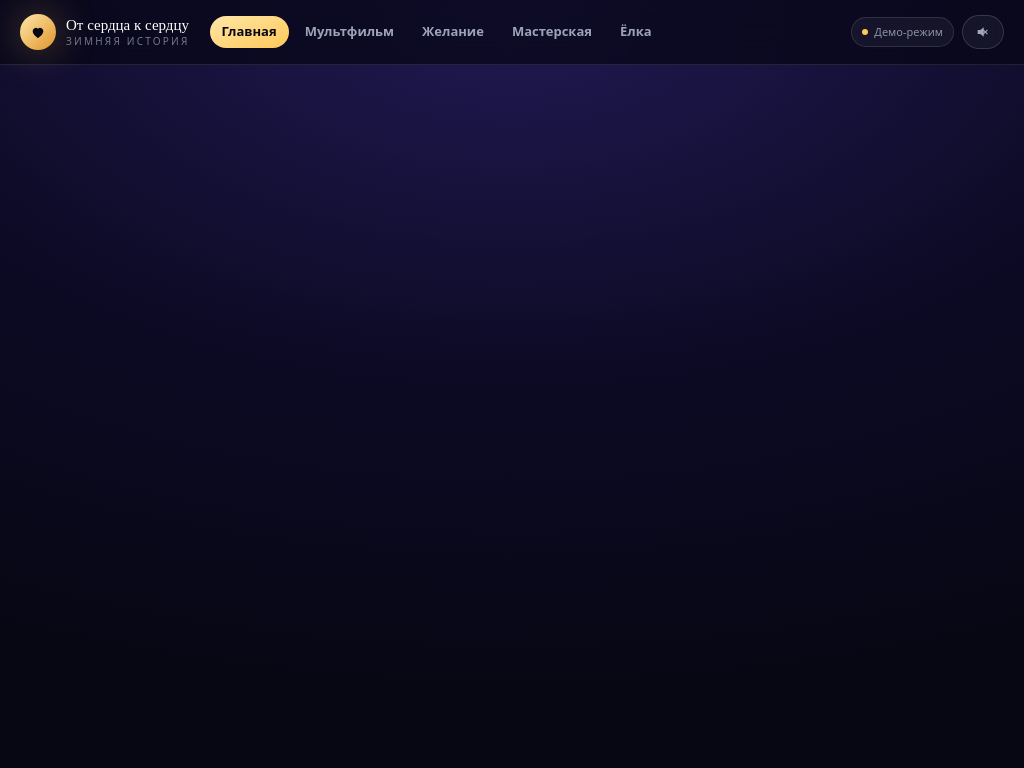
Test case: путешествие по сайту › модерация не пускает пустое желание и спам
Click the button "Желание".
click(453, 32)  # box [410,16,496,48]
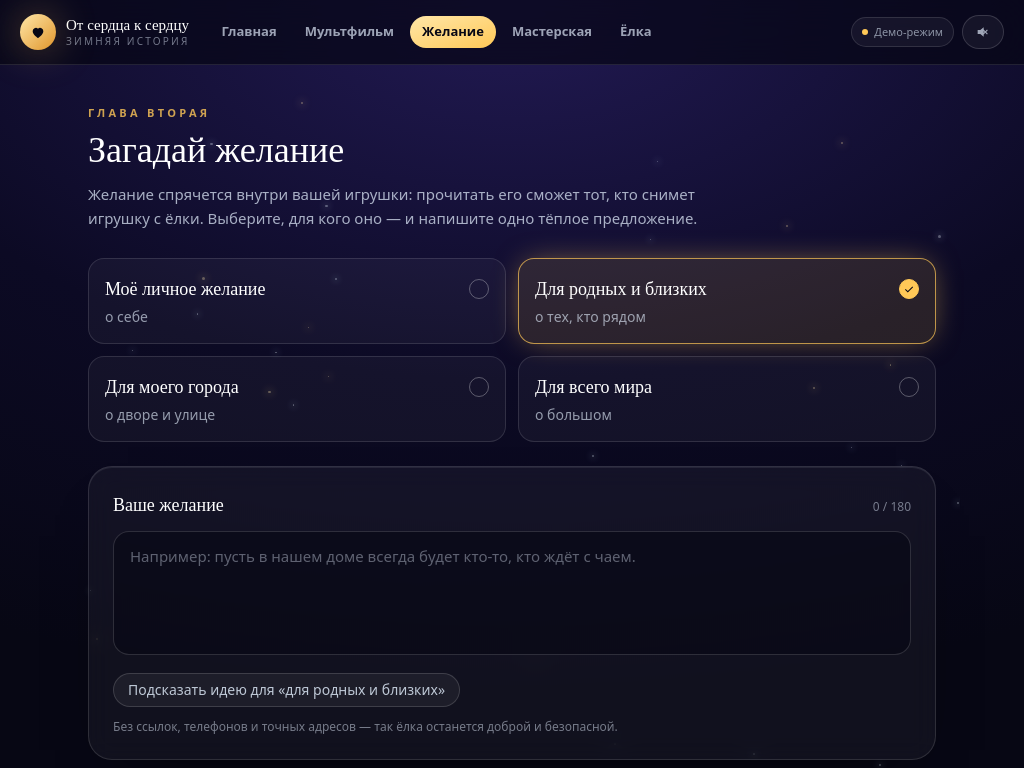
Now the text "глава вторая" is shown, box [88,105,210,120]
Replace the text in the text box labelled "Ваше желание" with "займ без процентов" at point(512, 593), box [113,531,911,655]
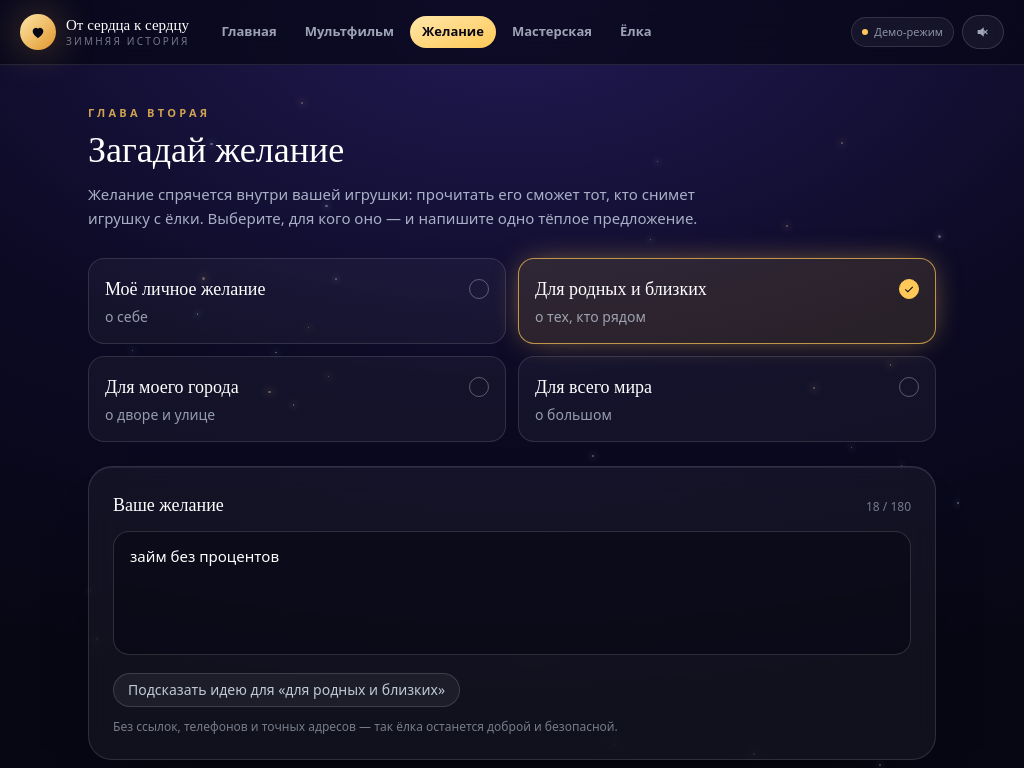
Leave the text box labelled "Ваше желание", box [113,531,911,655]
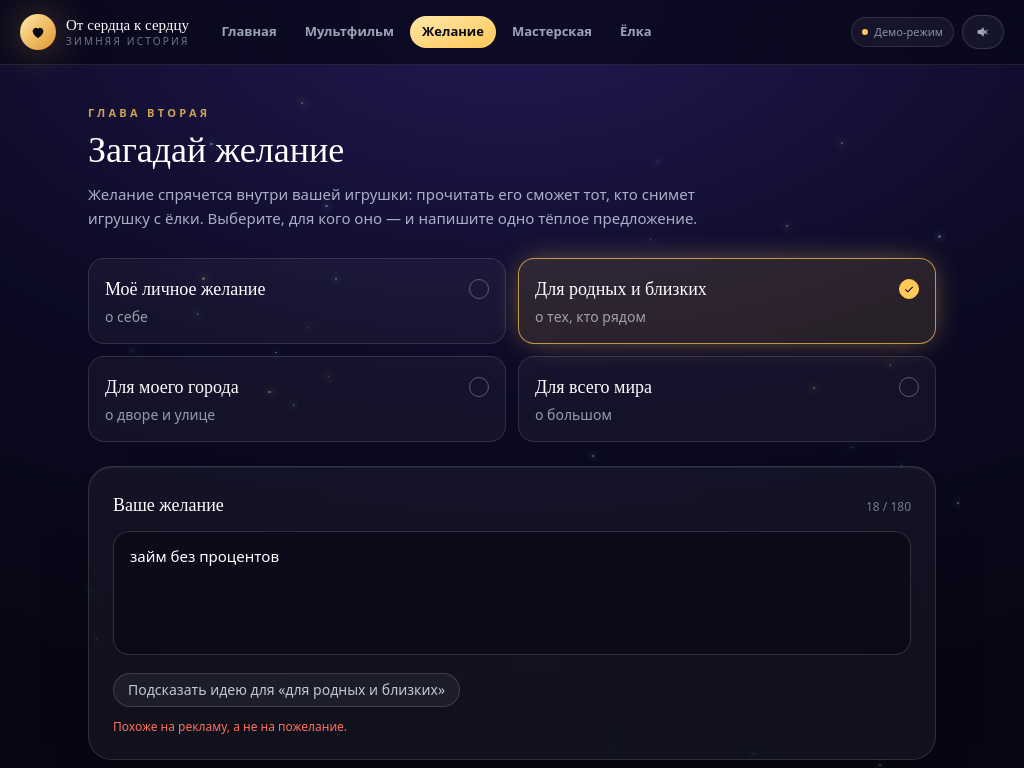
Now the text "Похоже на рекламу, а не на пожелание." is shown, box [113,718,347,735]
